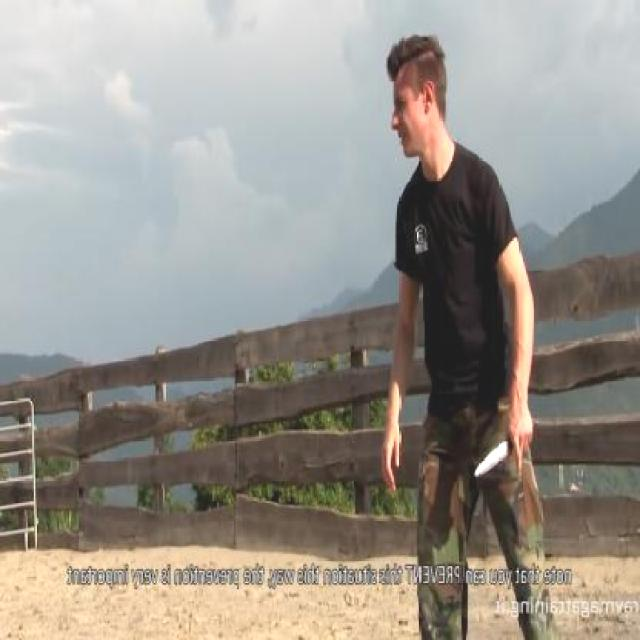knife: (469, 417, 538, 488)
